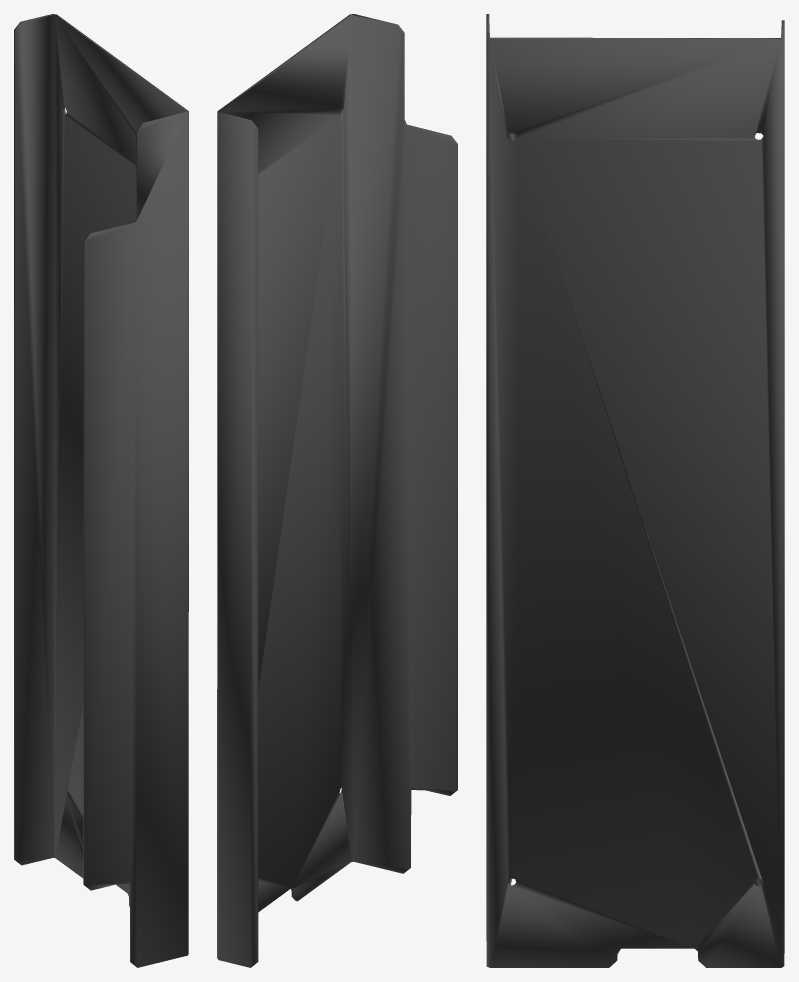
The model's file is torso_base.dae.
3 renders of one model, left to right at view 1: azimuth 30°, elevation 25°; view 2: azimuth 150°, elevation 25°; view 3: azimuth 270°, elevation 25°, orthographic. The views are drawn at different scales.
Parts seen in each view (by area): view 1: Torso_Base; view 2: Torso_Base; view 3: Torso_Base.
Boxes of the visible parts, box(x1,y1,x2,y2) form: Torso_Base: box(14, 14, 188, 967); Torso_Base: box(217, 14, 457, 967); Torso_Base: box(486, 14, 784, 967).
Size of the model in its own units: 0.05 by 0.1105 by 0.38.
Materials: 1 (1 with a texture image).
